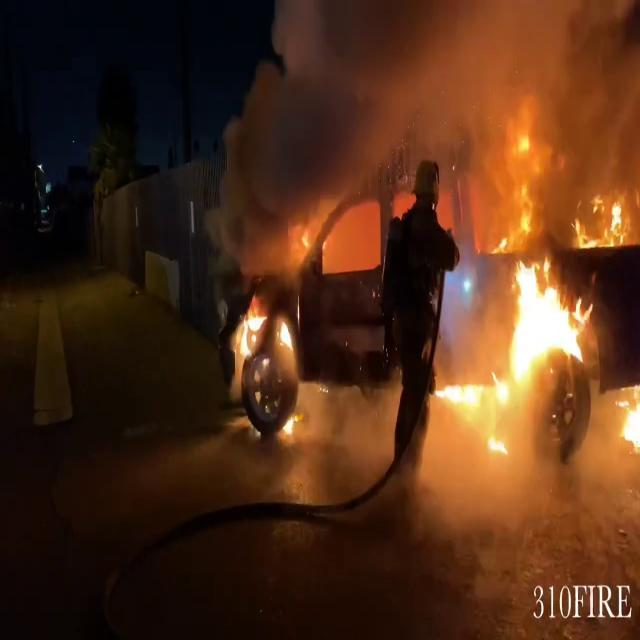Fire: (442, 240, 598, 438), (234, 296, 270, 364), (614, 380, 640, 460)
Smoke: (221, 0, 637, 275)
